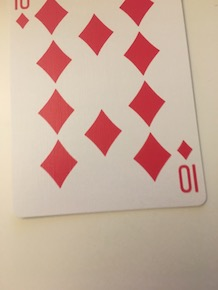TenOfDiamonds: (4, 1, 208, 218)
